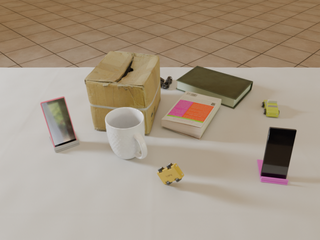book: (176, 66, 253, 109), (161, 91, 222, 140)
box: (84, 51, 161, 134)
cup: (105, 107, 147, 159)
mouse: (160, 76, 172, 89)
phone: (40, 96, 77, 147), (261, 127, 297, 179)
toy_car: (157, 163, 184, 185), (262, 99, 279, 117)
